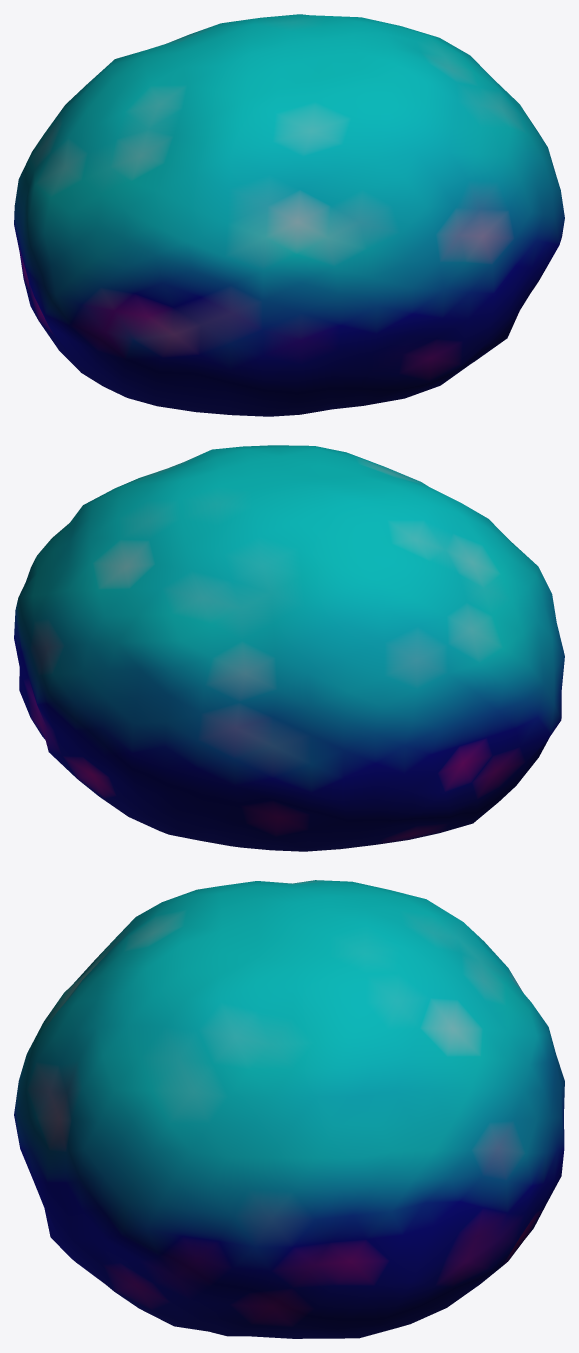
File: RockRounded_2_lod0.glb
The picture shows the model from 3 angles, top to bottom: view 1: azimuth 30°, elevation 25°; view 2: azimuth 150°, elevation 25°; view 3: azimuth 270°, elevation 25°; orthographic projection. The views are drawn at different scales.
Visible parts, largest first — view 1: RockRounded_2_lod0; view 2: RockRounded_2_lod0; view 3: RockRounded_2_lod0.
Boxes of the visible parts, x1,y1,x2,y2 form: RockRounded_2_lod0: [14, 14, 564, 416]; RockRounded_2_lod0: [14, 445, 564, 851]; RockRounded_2_lod0: [14, 880, 564, 1338].
Size of the model in its own units: 1.63 by 1 by 1.41.
